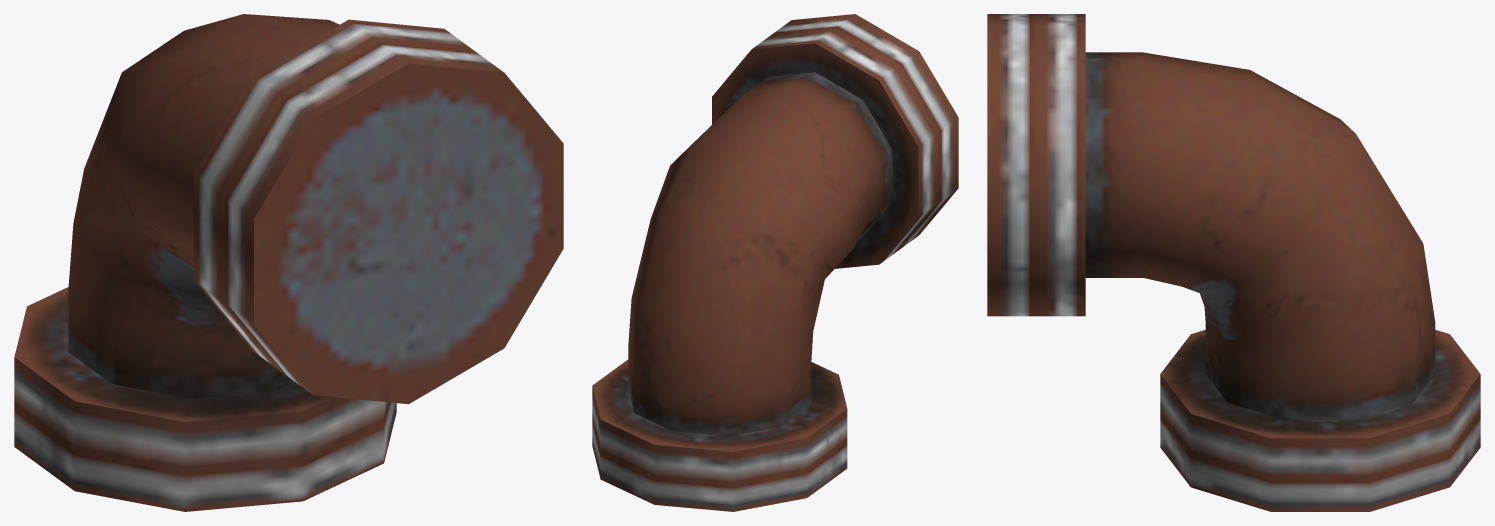
Rendered from AE_Pipes_Angle_06.fbx.
3 renders of one model, left to right at view 1: azimuth 30°, elevation 25°; view 2: azimuth 150°, elevation 25°; view 3: azimuth 270°, elevation 25°, orthographic. The views are drawn at different scales.
Visible parts, largest first — view 1: AE_Pipes_Angle_06_LOD0; view 2: AE_Pipes_Angle_06_LOD0; view 3: AE_Pipes_Angle_06_LOD0.
Boxes of the visible parts, x1,y1,x2,y2 form: AE_Pipes_Angle_06_LOD0: [14, 14, 563, 511]; AE_Pipes_Angle_06_LOD0: [592, 14, 958, 511]; AE_Pipes_Angle_06_LOD0: [987, 14, 1480, 511].
Size of what is drawn, in the model's own units: 17.97 by 27.48 by 29.1.
